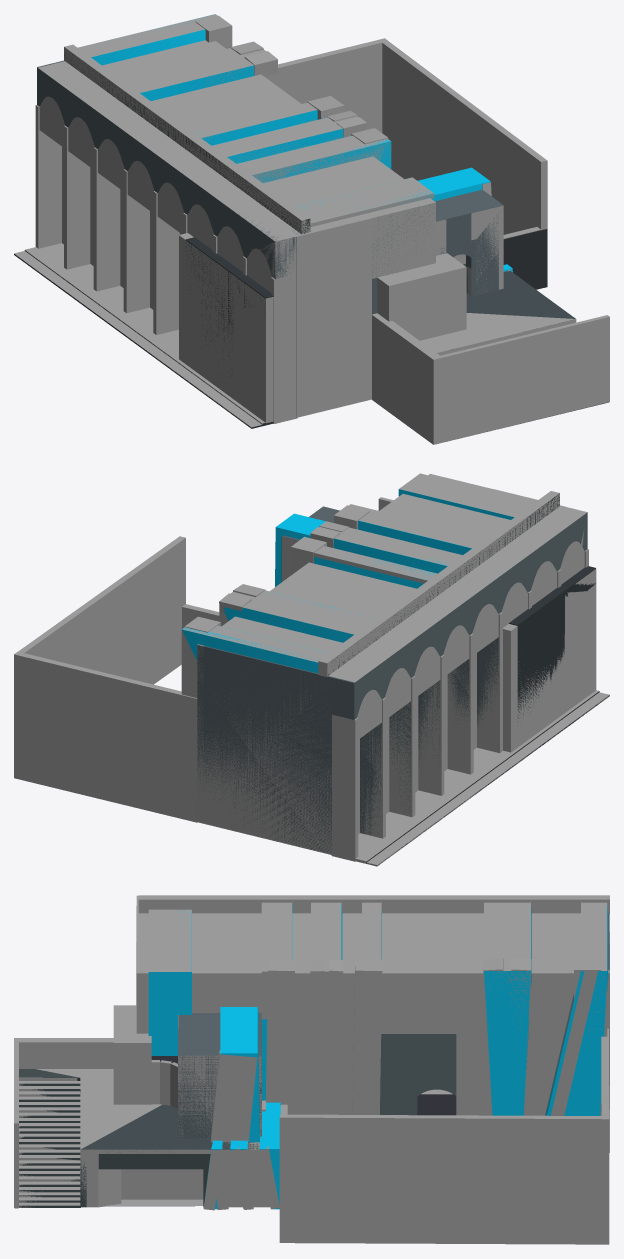
The model's file is Yoga.fbx.
The picture shows the model from 3 angles, top to bottom: view 1: azimuth 30°, elevation 25°; view 2: azimuth 150°, elevation 25°; view 3: azimuth 270°, elevation 25°; orthographic projection. The views are drawn at different scales.
Visible parts, largest first — view 1: pasted__pCube154, pasted__polySurface229, pasted__pCube1, pasted__pCube15, pasted__pCube29, pasted__pCube13, yoga_house:polySurface180, pasted__pCube14, pasted__pCube2, pasted__pCube128, pasted__pCube153, pasted__pCube131 (+20 smaller); view 2: pasted__polySurface229, pasted__pCube2, pasted__pCube154, pasted__pCube28, pasted__pCube1, pasted__pCube13, yoga_house:polySurface180, pasted__pCube153, pasted__pCube4, pasted__pCube131, pasted__pCube6, pasted__pCube7 (+14 smaller); view 3: pasted__pCube1, pasted__pCube154, yoga_house:polySurface180, pasted__polySurface229, pasted__pCube153, pasted__pCube87, pasted__pCube90, yoga_house:polySurface108, pasted__pCube128, pasted__pCube137, pasted__pCube38, pasted__pCube159 (+30 smaller).
Boxes of the visible parts, <box> form: pasted__pCube154: <box>38,40,435,292</box>; pasted__polySurface229: <box>14,60,608,431</box>; pasted__pCube1: <box>379,38,547,286</box>; pasted__pCube15: <box>440,315,609,442</box>; pasted__pCube29: <box>296,218,371,417</box>; pasted__pCube13: <box>179,233,273,423</box>; yoga_house:polySurface180: <box>91,15,512,272</box>; pasted__pCube14: <box>372,313,442,444</box>; pasted__pCube2: <box>277,38,387,132</box>; pasted__pCube128: <box>377,253,466,340</box>; pasted__pCube153: <box>64,44,310,233</box>; pasted__pCube131: <box>24,243,265,424</box>; pasted__polySurface229: <box>197,506,609,865</box>; pasted__pCube2: <box>14,652,197,822</box>; pasted__pCube154: <box>222,474,587,739</box>; pasted__pCube28: <box>197,673,331,854</box>; pasted__pCube1: <box>15,536,185,684</box>; pasted__pCube13: <box>503,569,596,752</box>; yoga_house:polySurface180: <box>182,489,514,673</box>; pasted__pCube153: <box>318,491,559,676</box>; pasted__pCube4: <box>332,714,358,861</box>; pasted__pCube131: <box>355,690,598,863</box>; pasted__pCube6: <box>389,676,415,817</box>; pasted__pCube7: <box>418,655,444,795</box>; pasted__pCube1: <box>279,1114,608,1244</box>; pasted__pCube154: <box>136,895,607,1033</box>; yoga_house:polySurface180: <box>148,903,608,1209</box>; pasted__polySurface229: <box>15,913,609,1208</box>; pasted__pCube153: <box>138,895,609,913</box>; pasted__pCube87: <box>352,959,382,1114</box>; pasted__pCube90: <box>265,959,294,1114</box>; yoga_house:polySurface108: <box>19,1078,80,1207</box>; pasted__pCube128: <box>113,1005,151,1104</box>; pasted__pCube137: <box>211,1050,257,1142</box>; pasted__pCube38: <box>292,1034,353,1114</box>; pasted__pCube159: <box>484,902,530,1018</box>.
Bounding box in the file's own units: 3990 × 2078 × 5597.
